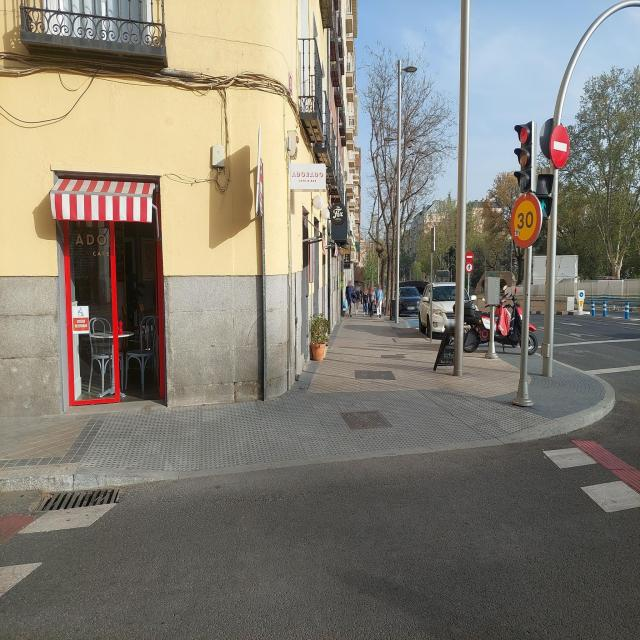bike: (474, 281, 537, 354)
car: (418, 281, 479, 347), (396, 285, 422, 317)
